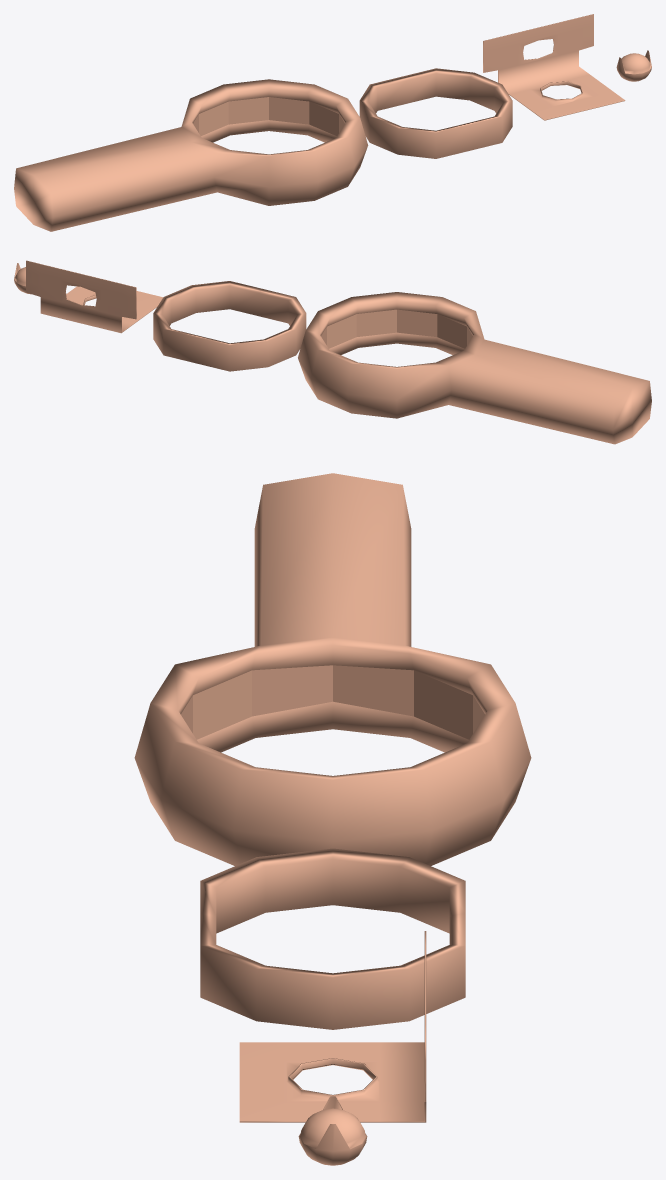
The model's file is copper 2.fbx.
The picture shows the model from 3 angles, top to bottom: view 1: azimuth 30°, elevation 25°; view 2: azimuth 150°, elevation 25°; view 3: azimuth 270°, elevation 25°; orthographic projection. The views are drawn at different scales.
Visible parts, largest first — view 1: pCylinder1, pCylinder2, pPlane1, pSphere1; view 2: pCylinder1, pCylinder2, pPlane1; view 3: pCylinder1, pCylinder2, pPlane1, pSphere1.
Part boxes in pixels (left/top/right/bottom): pCylinder1: left=14, top=79, right=368, bottom=231; pCylinder2: left=359, top=68, right=512, bottom=158; pPlane1: left=483, top=14, right=625, bottom=120; pSphere1: left=616, top=50, right=651, bottom=81; pCylinder1: left=298, top=292, right=651, bottom=444; pCylinder2: left=153, top=281, right=306, bottom=371; pPlane1: left=26, top=260, right=162, bottom=333; pCylinder1: left=134, top=473, right=531, bottom=865; pCylinder2: left=200, top=848, right=465, bottom=1029; pPlane1: left=239, top=931, right=426, bottom=1122; pSphere1: left=298, top=1096, right=367, bottom=1165.
Bounding box in the file's own units: 125 × 10.3 × 34.99.
Materials: 1 (1 with a texture image).
